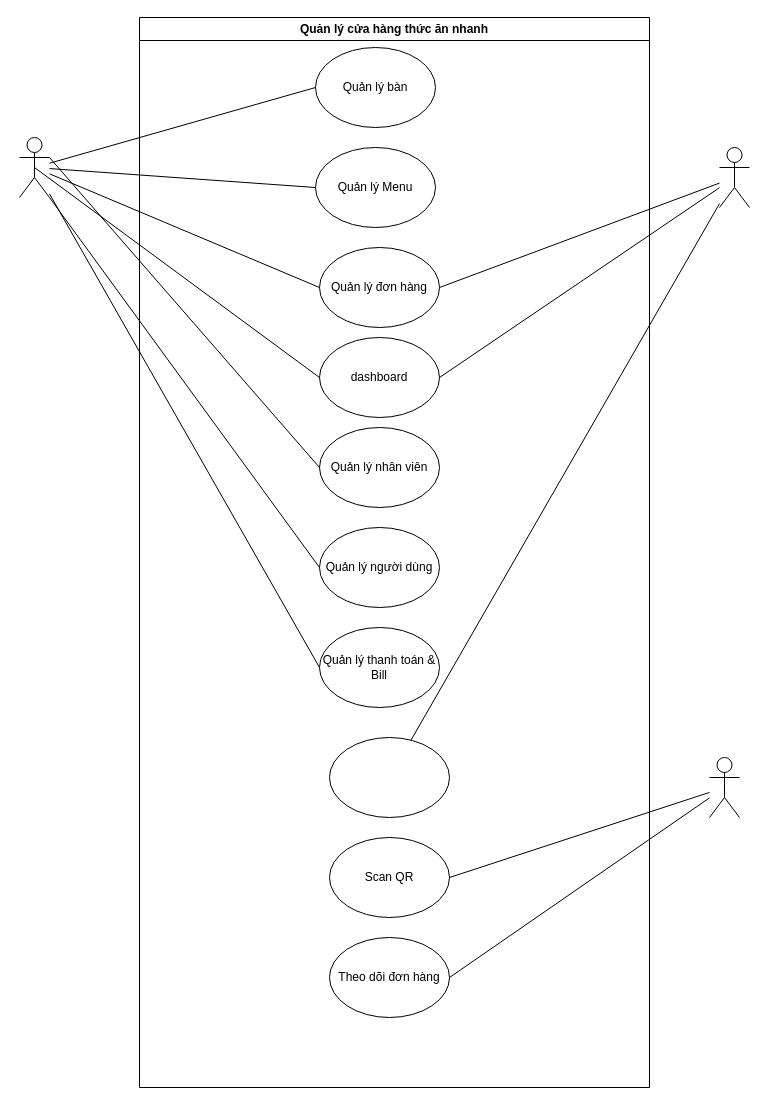
The diagram is 767 pixels wide and 1105 high, and some of its shapes have lost their labels. The shapes that lost their labels are listed below. From the top down, each one's centre as x and y in pixels, then its label:
pixel 34 167: Admin
pixel 734 177: staff
pixel 389 777: Tạo đơn hàng
pixel 724 787: Customer
